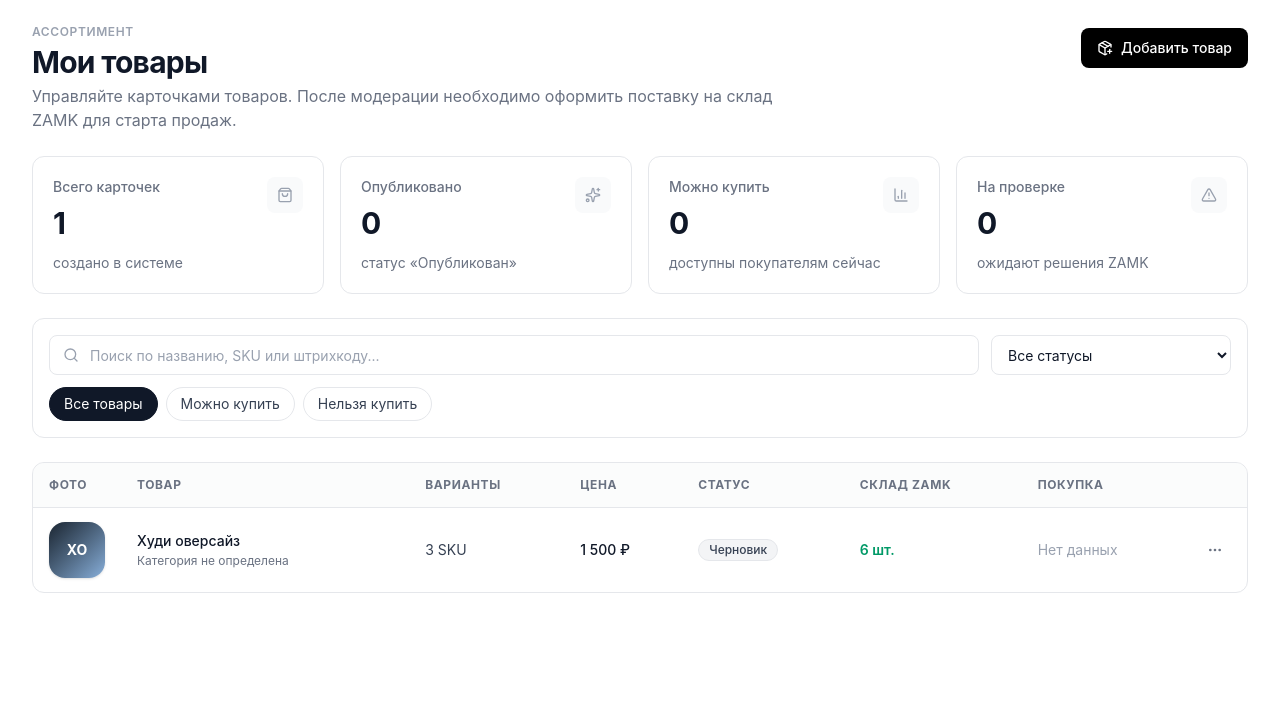
Test: SellerProducts - Quick View Truth + Safe Existing Actions › B, C, D: variant formats for single-dimension and empty variants
The image size is (1280, 710).
Click the text "Худи оверсайз": (189, 540) 137,532 -> 240,549
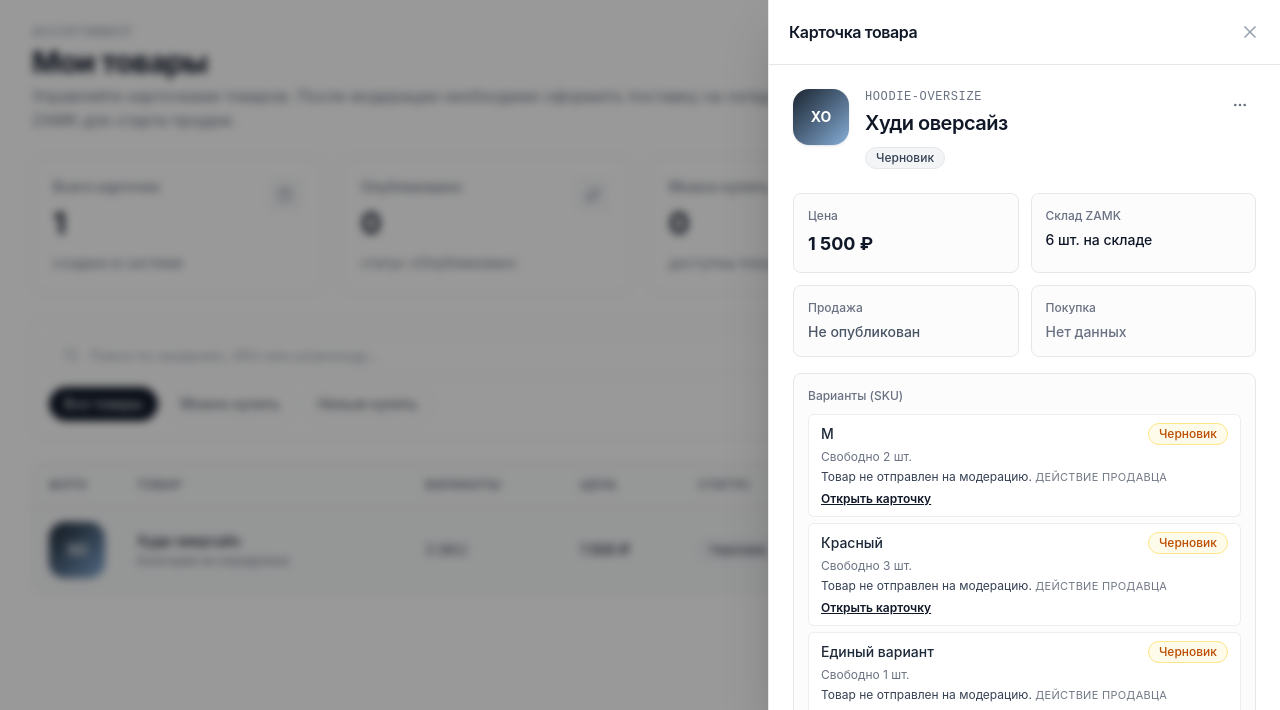
Expected: the text "M" is shown, 821,424 -> 834,444
Expected: the text "Красный" is shown, 821,533 -> 883,553
Expected: the text "Единый вариант" is shown, 821,642 -> 934,662
